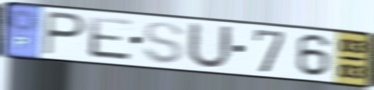6: (293, 32, 334, 78)
7: (251, 28, 286, 74)
E: (87, 15, 135, 63)
P: (40, 9, 88, 58)
S: (140, 20, 186, 66)
U: (185, 21, 235, 71)
